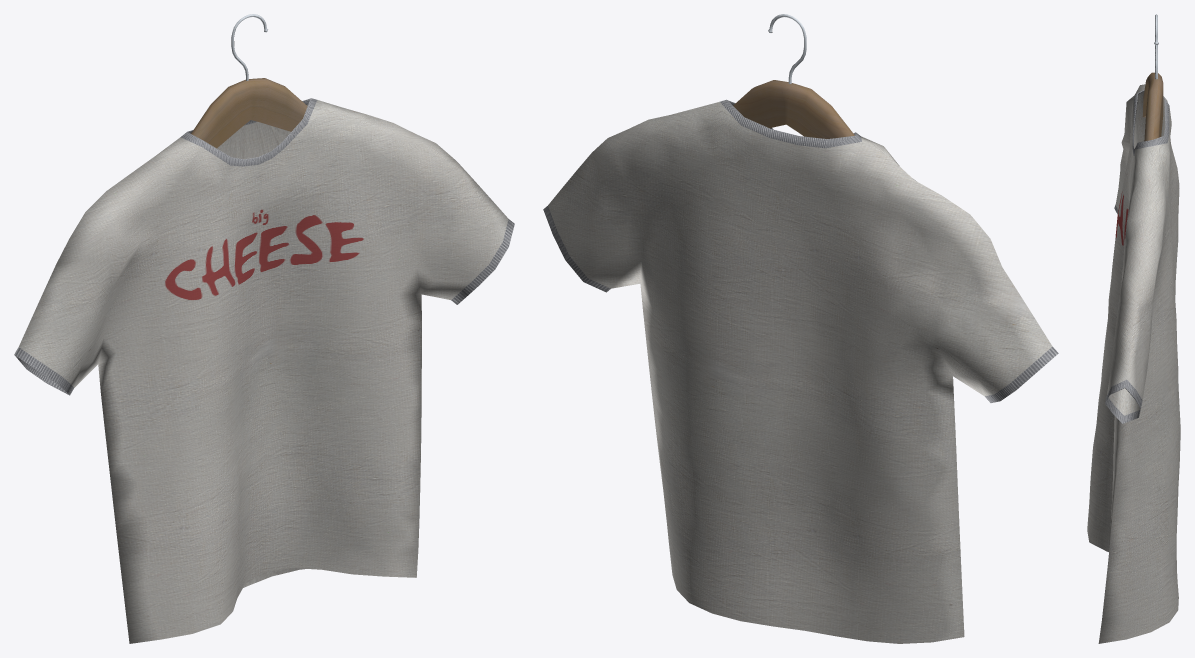
File: Shirt on Hanger.DAE
3 renders of one model, left to right at view 1: azimuth 30°, elevation 25°; view 2: azimuth 150°, elevation 25°; view 3: azimuth 270°, elevation 25°, orthographic. The views are drawn at different scales.
Visible parts, largest first — view 1: ShirtOnHanger; view 2: ShirtOnHanger; view 3: ShirtOnHanger.
Boxes of the visible parts, bbox=[...] form: ShirtOnHanger: bbox=[14, 14, 514, 643]; ShirtOnHanger: bbox=[543, 14, 1058, 643]; ShirtOnHanger: bbox=[1087, 14, 1180, 643].
Bounding box in the file's own units: 0.5135 × 0.5739 × 0.0858.
